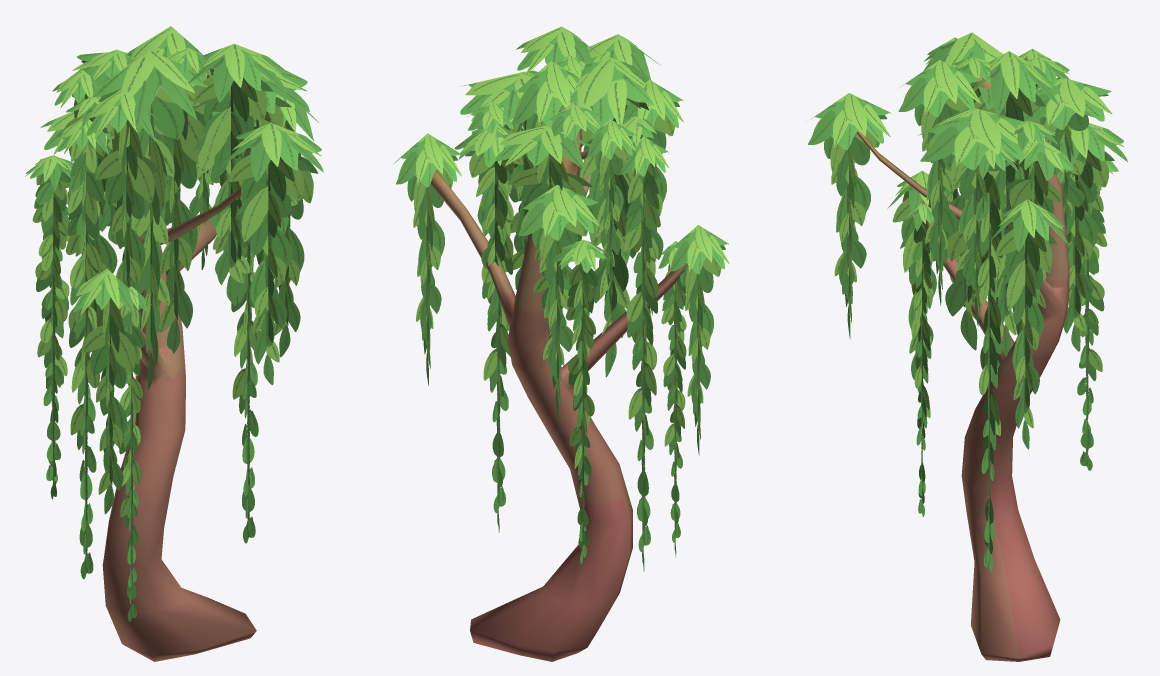
Rendered from SM_TreeSmall.fbx.
3 renders of one model, left to right at view 1: azimuth 30°, elevation 25°; view 2: azimuth 150°, elevation 25°; view 3: azimuth 270°, elevation 25°, orthographic. The views are drawn at different scales.
Parts seen in each view (by area): view 1: SM_TreeSmall; view 2: SM_TreeSmall; view 3: SM_TreeSmall.
Part boxes in pixels (x1,y1,x2,y2): SM_TreeSmall: (24,26,323,661); SM_TreeSmall: (394,26,729,661); SM_TreeSmall: (808,32,1127,661).
Bounding box in the file's own units: 260 × 511 × 293.
